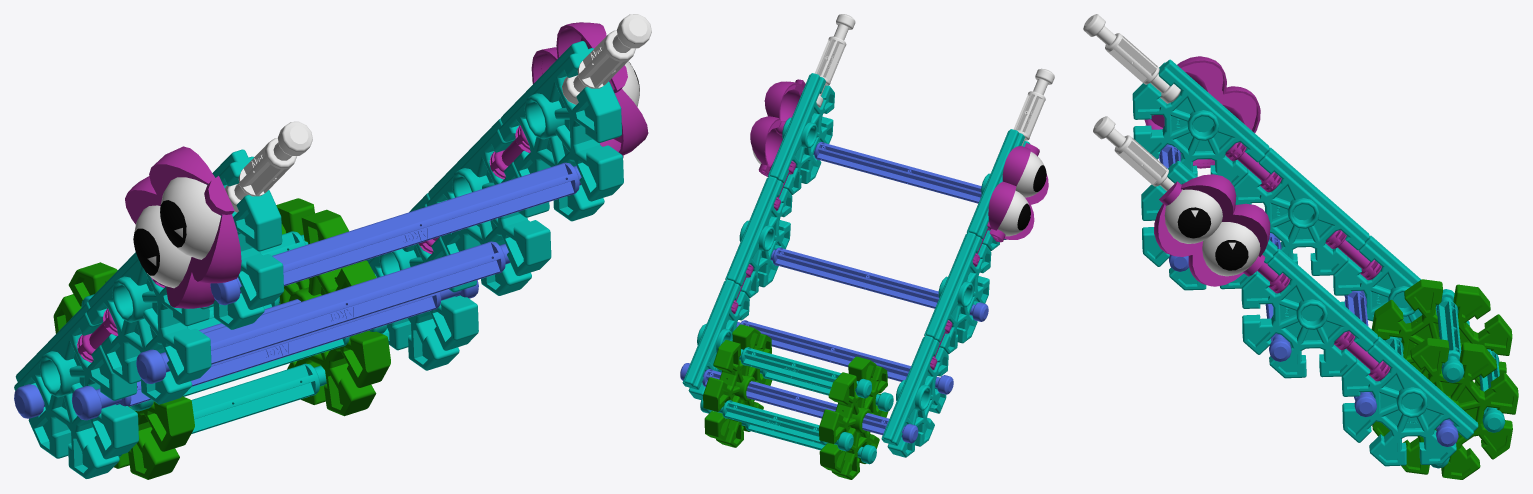
The picture shows the model from 3 angles, left to right: view 1: azimuth 30°, elevation 25°; view 2: azimuth 150°, elevation 25°; view 3: azimuth 270°, elevation 25°; orthographic projection. The views are drawn at different scales.
Visible parts, largest first — view 1: Untitled.4773, Untitled.4753, transform1.003, Untitled.4789, Untitled.4754, Untitled.4779, Untitled.4788, Untitled.4775, Untitled.4763, Untitled.4776, Untitled.4786, Untitled.4784 (+10 smaller); view 2: Untitled.4754, Untitled.4786, Untitled.4788, Untitled.4775, Untitled.4779, Untitled.4773, Untitled.4789, Untitled.4753, transform1.003, Untitled.4776, Untitled.4784, Untitled.4781 (+10 smaller); view 3: Untitled.4775, Untitled.4776, Untitled.4763, Untitled.4754, Untitled.4779, Untitled.4788, Untitled.4786, Untitled.4789, Untitled.4773, Untitled.4762, Untitled.4772, Untitled.4765 (+12 smaller).
Part boxes in pixels (x1,y1,x2,y2): Untitled.4773: (499, 41, 623, 221); Untitled.4753: (136, 241, 510, 383); transform1.003: (210, 162, 581, 305); Untitled.4789: (14, 302, 138, 478); Untitled.4754: (125, 22, 648, 308); Untitled.4779: (86, 252, 211, 404); Untitled.4788: (276, 198, 390, 416); Untitled.4775: (426, 118, 551, 295); Untitled.4763: (200, 149, 283, 329); Untitled.4776: (366, 193, 478, 370); Untitled.4786: (53, 262, 194, 479); Untitled.4784: (72, 280, 478, 420); Untitled.4754: (750, 79, 1048, 242); Untitled.4786: (819, 356, 888, 479); Untitled.4788: (703, 324, 772, 447); Untitled.4775: (725, 176, 792, 298); Untitled.4779: (924, 232, 991, 354); Untitled.4773: (768, 73, 834, 194); Untitled.4789: (881, 335, 948, 457); Untitled.4753: (770, 247, 988, 321); transform1.003: (813, 142, 981, 203); Untitled.4776: (682, 279, 749, 399); Untitled.4784: (736, 320, 953, 394); Untitled.4781: (680, 363, 918, 443); Untitled.4775: (1241, 248, 1378, 378); Untitled.4776: (1341, 336, 1478, 466); Untitled.4763: (1132, 59, 1269, 186); Untitled.4754: (1144, 56, 1270, 286); Untitled.4779: (1234, 147, 1369, 275); Untitled.4788: (1372, 338, 1518, 479); Untitled.4786: (1371, 279, 1512, 389); Untitled.4789: (1333, 235, 1469, 325); Untitled.4773: (1141, 161, 1277, 290); Untitled.4762: (1083, 14, 1180, 103); Untitled.4772: (1093, 116, 1182, 190); Untitled.4765: (1164, 189, 1222, 243).
Bounding box in the file's own units: 1.66 × 1.9 × 1.94.
